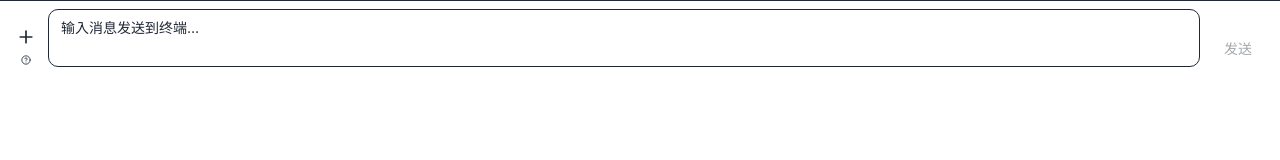
MessageComposer：发送与回执（W4） › 立即发送（插队）：按 itemId 点名直发，delivered 后行移除且回执转「已送达终端」
Type "插队试试" into the text box with test id "composer-input".
click(624, 38); type("插队试试")  # box [48,9,1200,67]
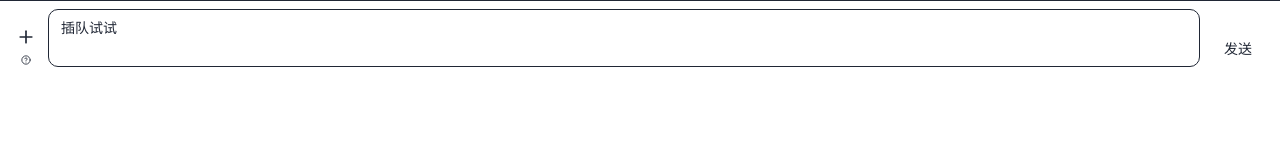
Click the button with test id "composer-send".
click(1238, 49)  # box [1208,31,1268,67]
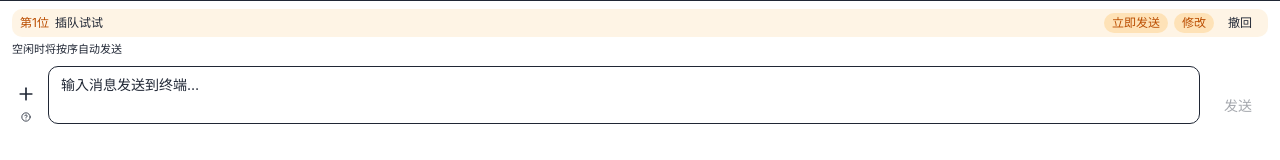
Expected: the list item with test id "queue-row-7" is shown, [12,9,1268,37]
Click the button with test id "queue-jump".
click(1136, 23)  # box [1104,13,1168,33]
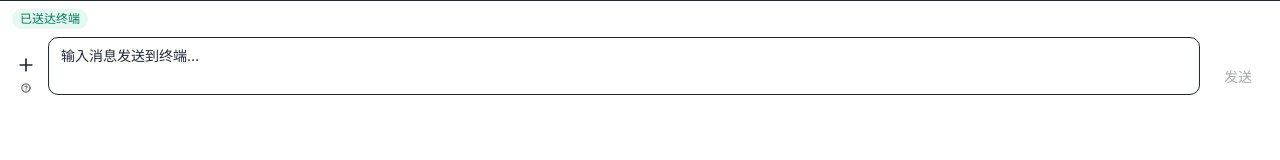
Expected: the text "已送达终端" is shown, [12,9,88,29]
Expected: the list item with test id "queue-row-7" is gone
